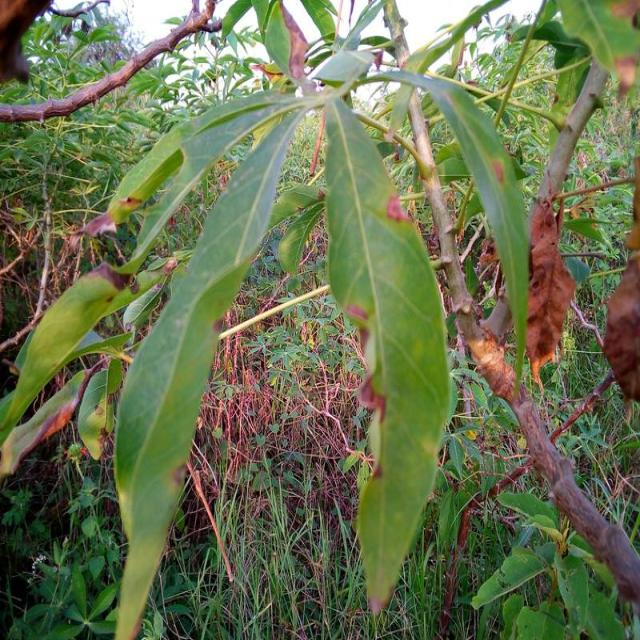cassava leaf: (109, 86, 318, 638), (321, 92, 452, 615)
